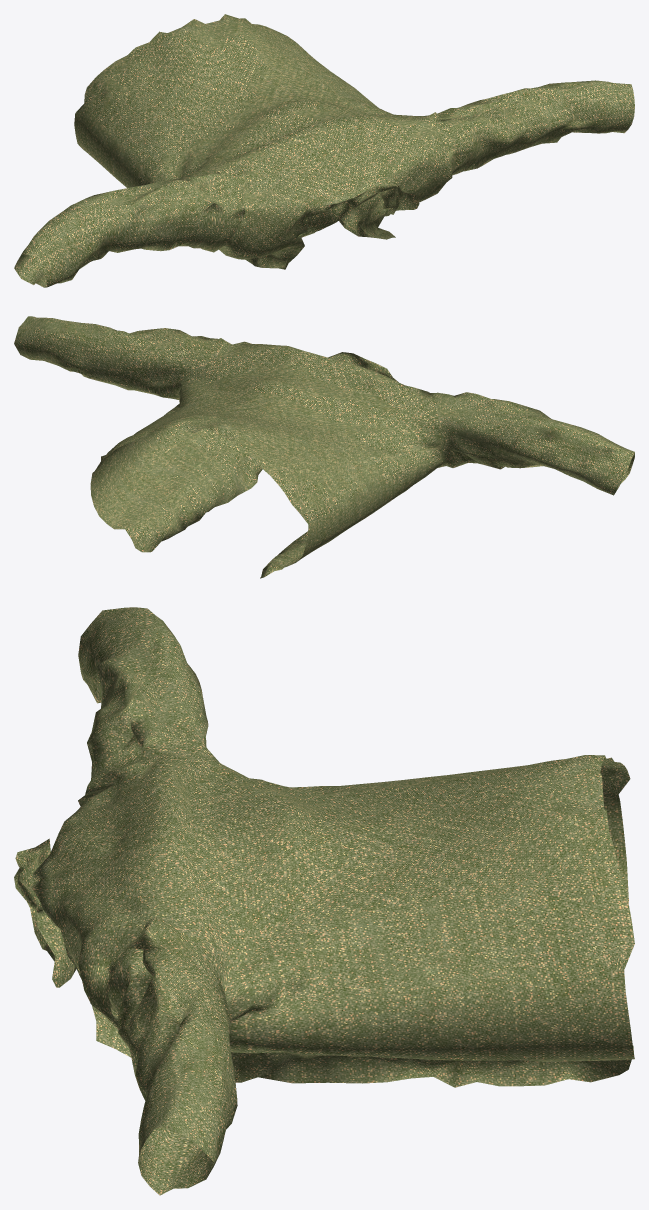
The model's file is shirt.obj.
3 views of the same model, one above another, from view 1: azimuth 30°, elevation 25°; view 2: azimuth 150°, elevation 25°; view 3: azimuth 270°, elevation 25° (orthographic). The views are drawn at different scales.
Bounding box in the file's own units: 1.39 × 0.3195 × 0.6873.
Materials: 1 (1 with a texture image).
